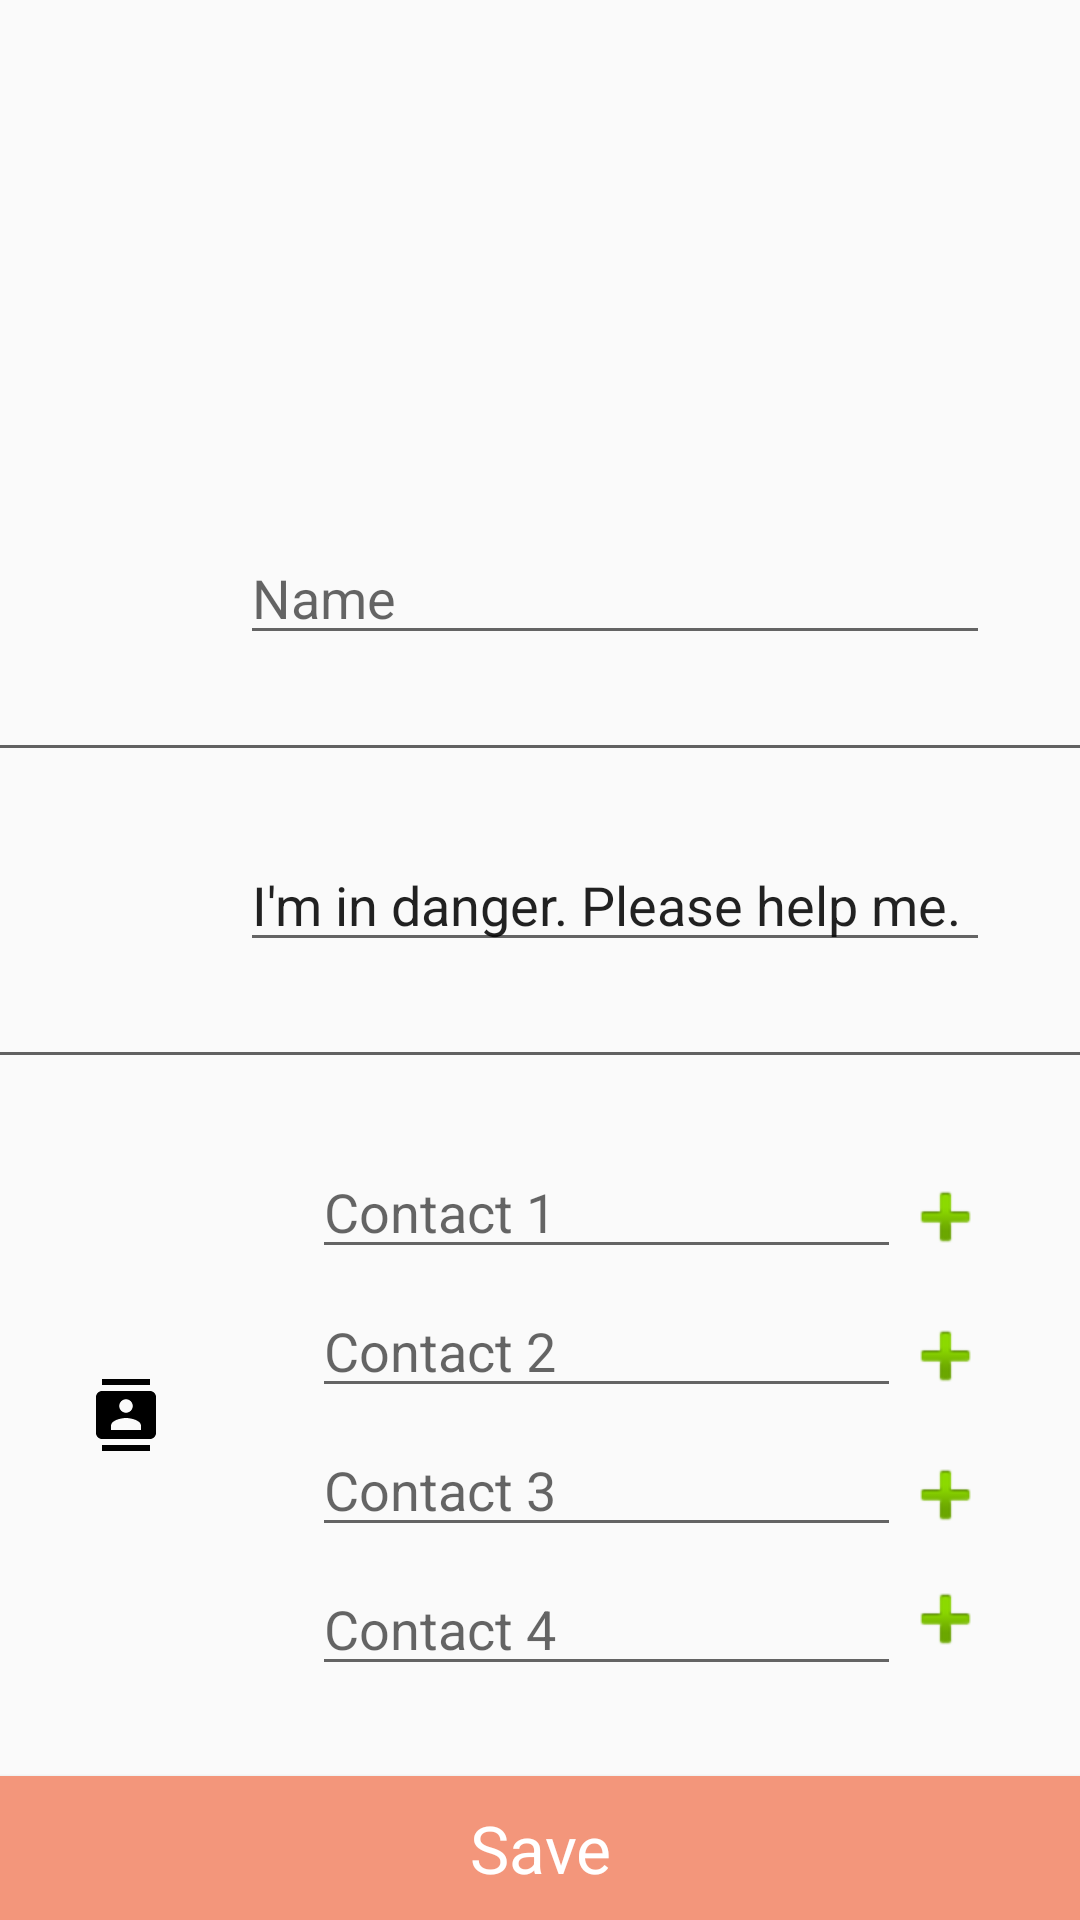

Screen size 1080x1920. Icon name, then its center in pixels as (x,y):
add: (945,1217), (945,1356), (945,1495), (945,1619)
contacts: (126,1415)
